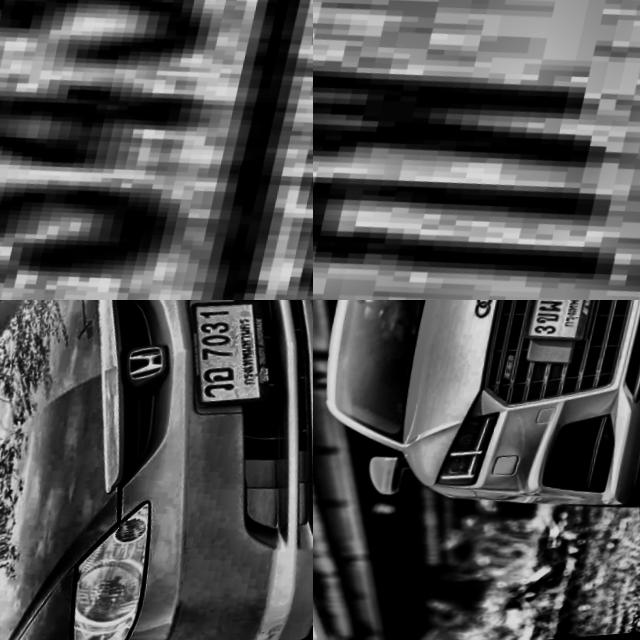license-plate: (313, 0, 640, 300), (0, 0, 313, 300), (165, 300, 302, 427), (522, 300, 611, 353)
